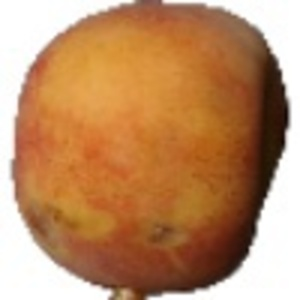pêssego: (10, 1, 290, 300)
